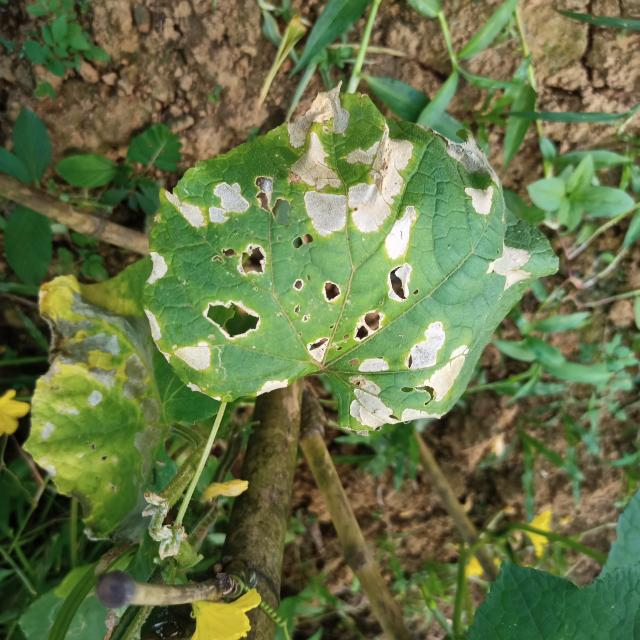disease_cucumber: (152, 95, 529, 426)
